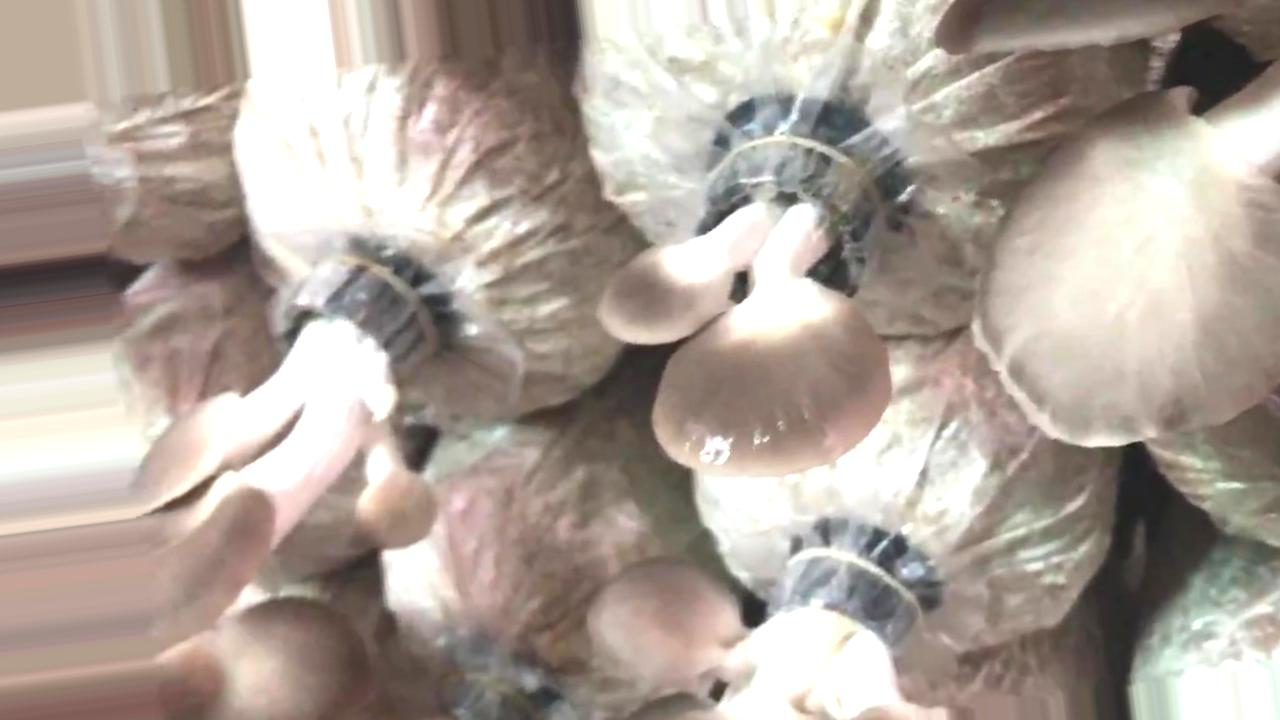nam: (139, 252, 482, 720), (935, 5, 1280, 442), (592, 142, 896, 481), (587, 543, 957, 720)
